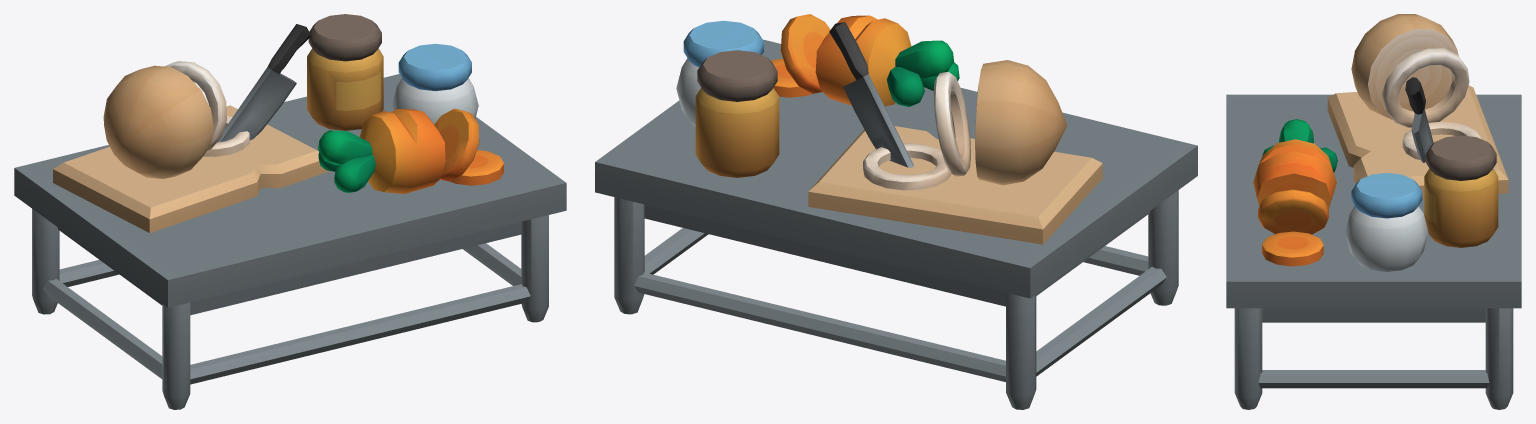
Rendered from kitchen-table-001.glb.
3 views of the same model, side by side, from view 1: azimuth 30°, elevation 25°; view 2: azimuth 150°, elevation 25°; view 3: azimuth 270°, elevation 25° (orthographic). The views are drawn at different scales.
Visible parts, largest first — view 1: kitchentable_A_large_decorated; view 2: kitchentable_A_large_decorated; view 3: kitchentable_A_large_decorated.
Boxes of the visible parts, x1,y1,x2,y2 form: kitchentable_A_large_decorated: [14, 14, 566, 409]; kitchentable_A_large_decorated: [595, 14, 1197, 409]; kitchentable_A_large_decorated: [1226, 14, 1521, 409].
Size of the model in its own units: 3 by 1.93 by 2.
Materials: 1 (1 with a texture image).
